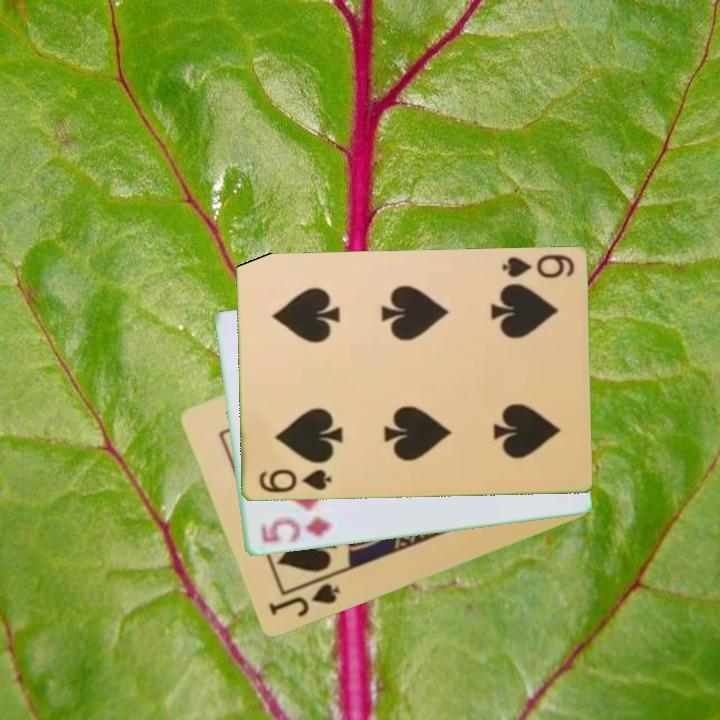5d: (257, 513, 335, 546)
6s: (497, 251, 577, 281), (255, 466, 334, 496)
Js: (264, 580, 343, 621)
